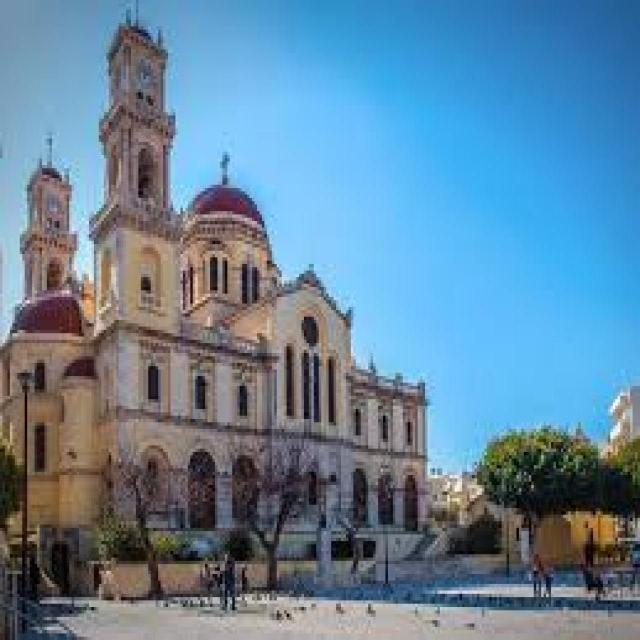Agios Minas: (6, 2, 425, 589)
